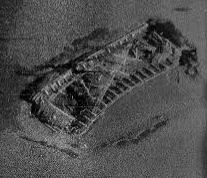ship: (26, 16, 185, 136)
